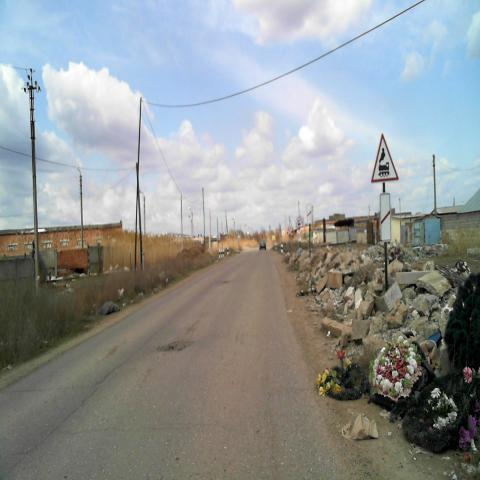1_2: (369, 132, 399, 183)
